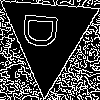D: (23, 11, 67, 50)
